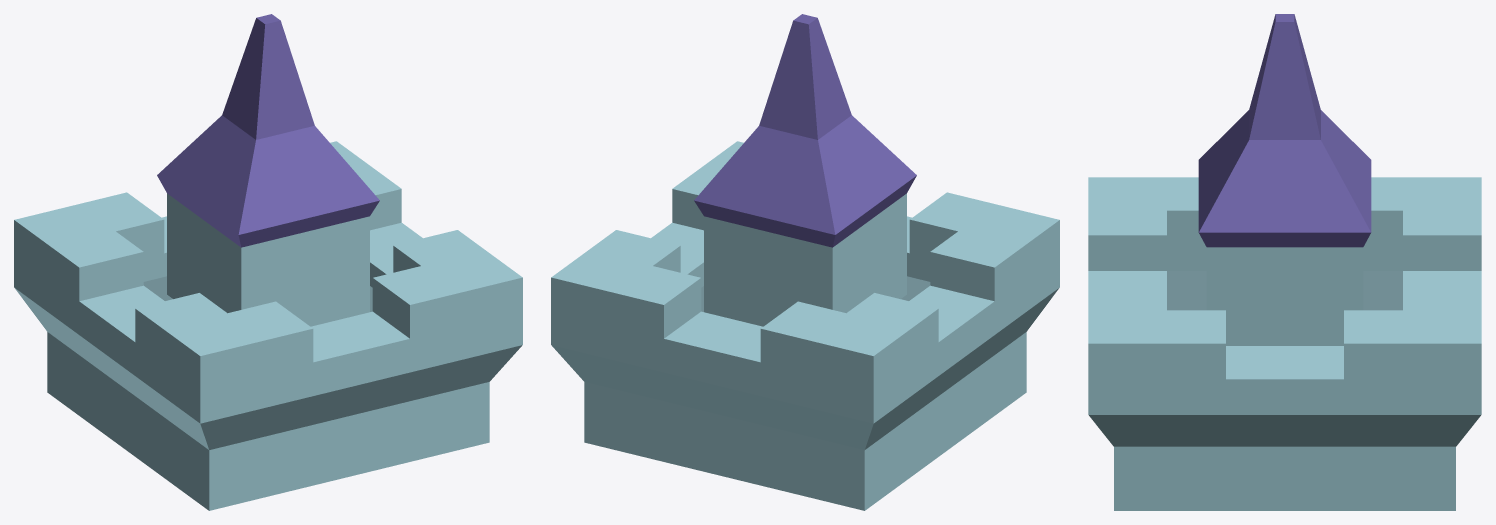
The model's file is towerSquare_roofC.dae.
3 views of the same model, side by side, from view 1: azimuth 30°, elevation 25°; view 2: azimuth 150°, elevation 25°; view 3: azimuth 270°, elevation 25° (orthographic). The views are drawn at different scales.
Visible parts, largest first — view 1: towerSquare_roofC; view 2: towerSquare_roofC; view 3: towerSquare_roofC.
Part boxes in pixels (x1,y1,x2,y2): towerSquare_roofC: (14, 14, 522, 510); towerSquare_roofC: (551, 14, 1059, 510); towerSquare_roofC: (1088, 14, 1481, 510).
Size of the model in its own units: 1 by 1.18 by 1.
